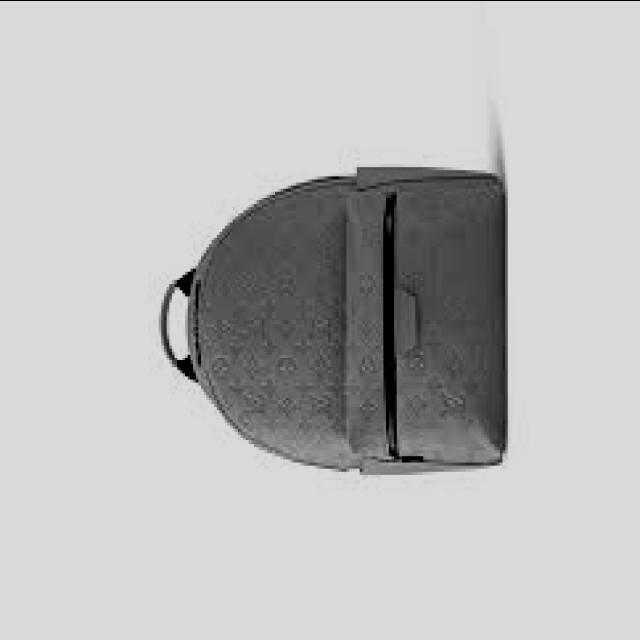backpack: (157, 167, 506, 478)
